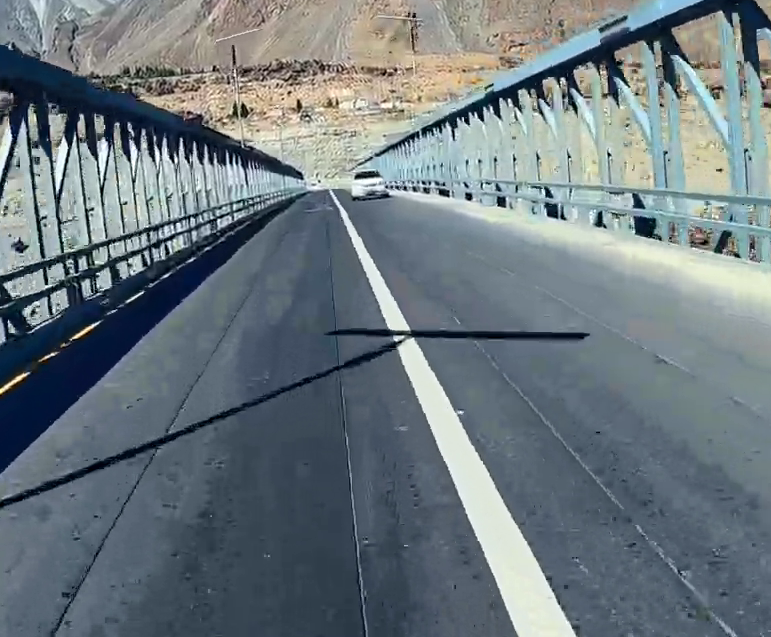left: (250, 220, 675, 532)
